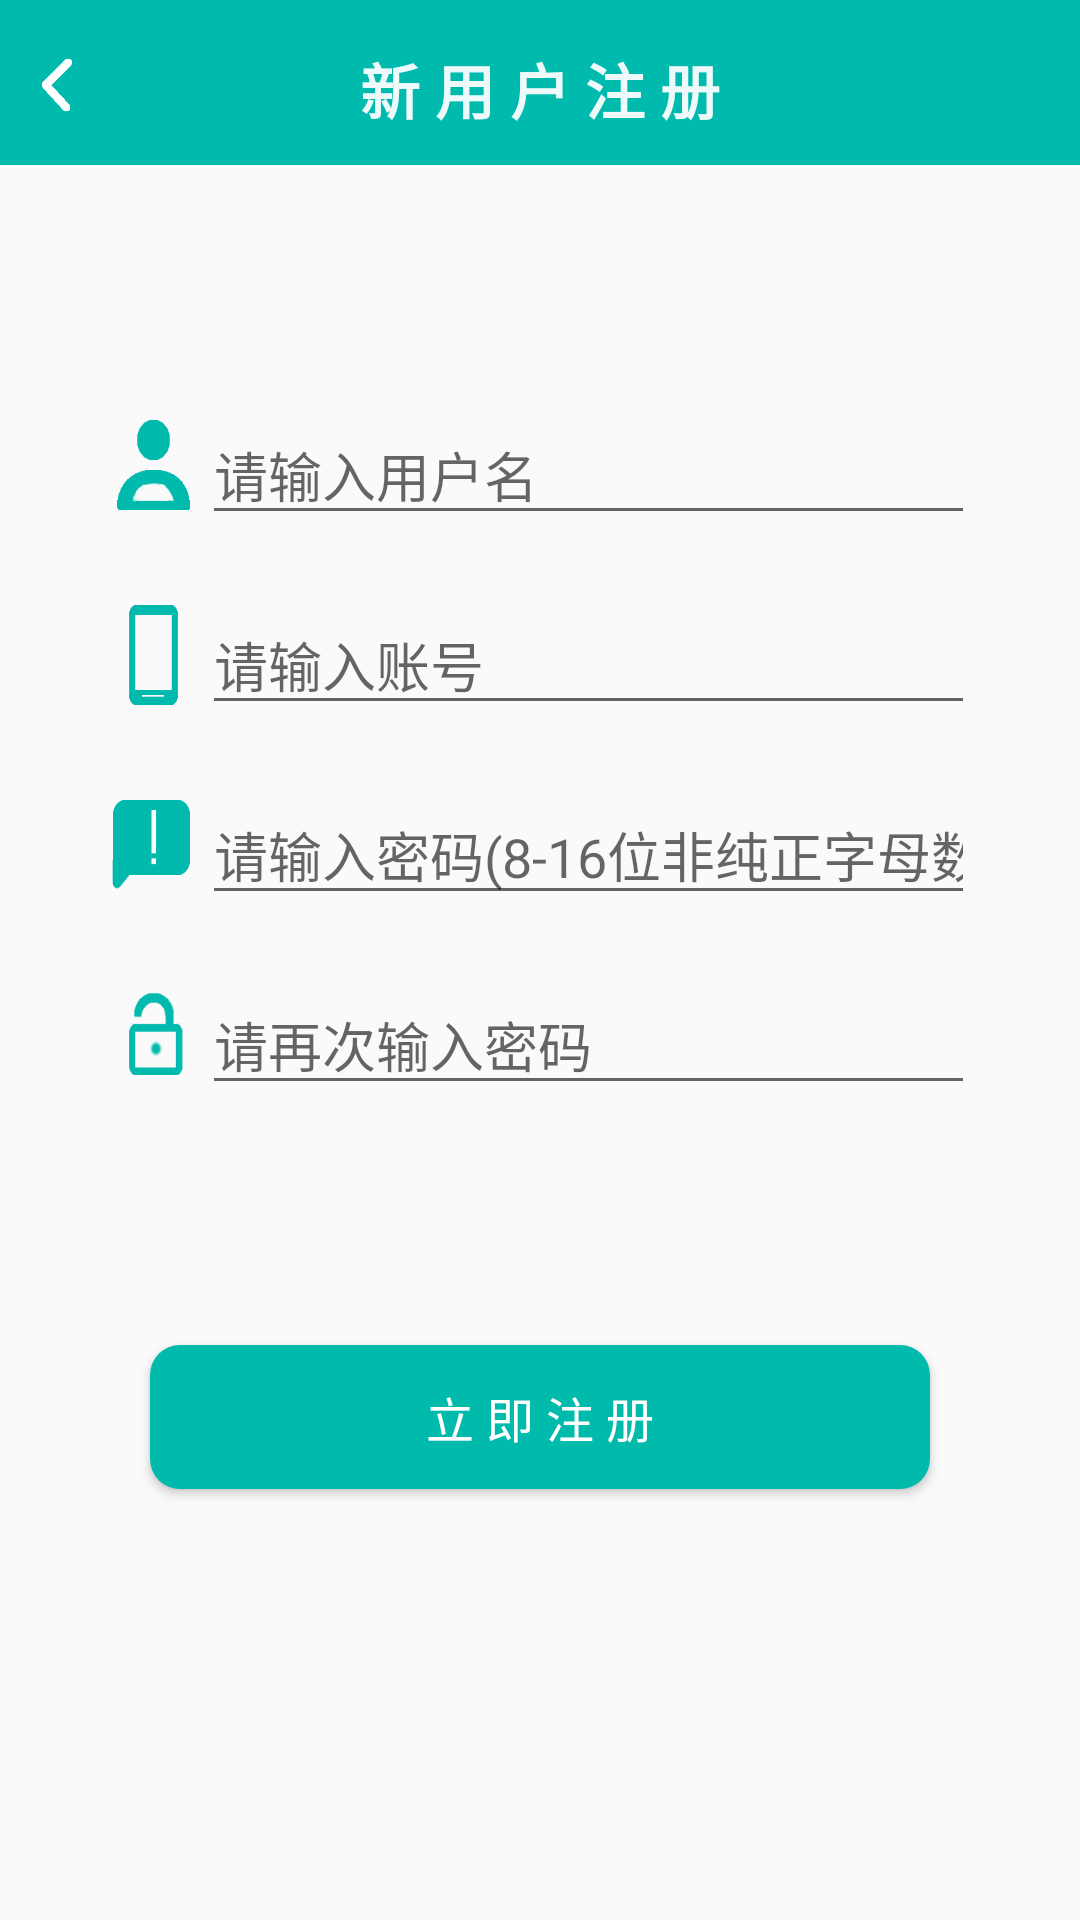

Icons on this 1080*1920 Android screen, each with the point to tap as (x=x, y=y):
unlockgreen: (x=156, y=1034)
usergreen: (x=153, y=465)
